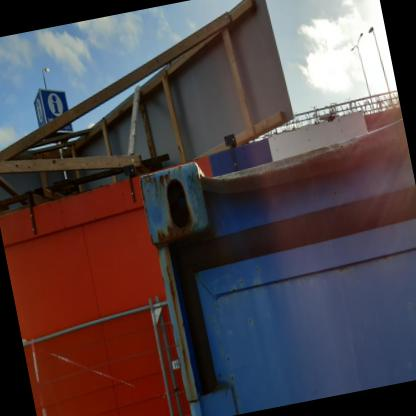CornerCasting: (135, 156, 216, 249)
